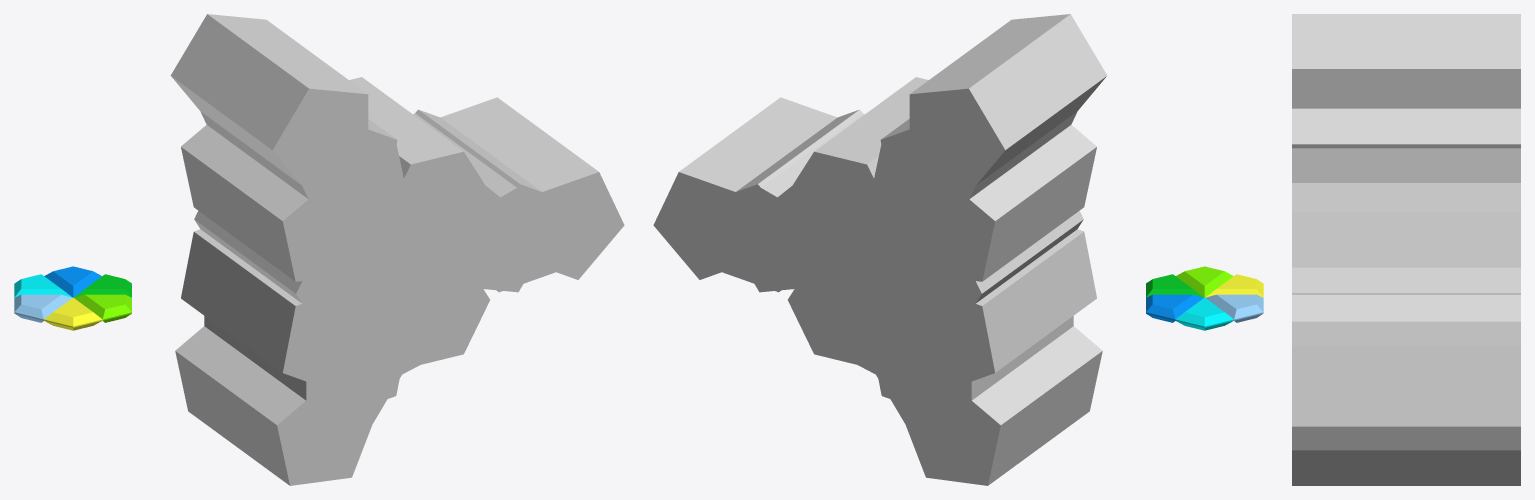
File: preparationTilling.fbx
The picture shows the model from 3 angles, left to right: view 1: azimuth 30°, elevation 25°; view 2: azimuth 150°, elevation 25°; view 3: azimuth 270°, elevation 25°; orthographic projection. The views are drawn at different scales.
Parts seen in each view (by area): view 1: Cylinder_instance, Cylinder_instance_2, Cylinder_instance_5, Cylinder_instance_6, Cylinder, Cylinder_1_1_2, Cylinder_0_2, Cylinder_3_4, Cylinder_1_3, Cylinder_1_3_2, Cylinder_2_3, Cylinder_4_3 (+12 smaller); view 2: Cylinder_instance, Cylinder_instance_2, Cylinder_instance_5, Cylinder_instance_6, Cylinder, Cylinder_1_1_2, Cylinder_1_3, Cylinder_0_2, Cylinder_1_1, Cylinder_2_3, Cylinder_1_3_2, Cylinder_1_5_2 (+13 smaller); view 3: Cylinder, Cylinder_instance, Cylinder_1_1_2, Cylinder_2_3, Cylinder_instance_2, Cylinder_instance_3, Cylinder_0_2, Cylinder_1_1, Cylinder_2_5.
Boxes of the visible parts, box(x1,y1,x2,y2) form: Cylinder_instance: box(170, 14, 368, 193); Cylinder_instance_2: box(175, 326, 373, 485); Cylinder_instance_5: box(181, 125, 382, 281); Cylinder_instance_6: box(181, 229, 382, 392); Cylinder: box(440, 97, 624, 279); Cylinder_1_1_2: box(349, 77, 487, 247); Cylinder_0_2: box(415, 109, 572, 292); Cylinder_3_4: box(367, 215, 462, 320); Cylinder_1_3: box(315, 176, 417, 289); Cylinder_1_3_2: box(194, 211, 401, 335); Cylinder_2_3: box(200, 111, 397, 215); Cylinder_4_3: box(204, 316, 401, 431); Cylinder_instance: box(909, 14, 1107, 193); Cylinder_instance_2: box(901, 326, 1102, 485); Cylinder_instance_5: box(895, 125, 1096, 281); Cylinder_instance_6: box(895, 229, 1096, 392); Cylinder: box(653, 97, 837, 279); Cylinder_1_1_2: box(788, 77, 928, 256); Cylinder_1_3: box(861, 176, 962, 289); Cylinder_0_2: box(704, 109, 862, 292); Cylinder_1_1: box(762, 180, 863, 279); Cylinder_2_3: box(880, 111, 1077, 213); Cylinder_1_3_2: box(876, 211, 1083, 335); Cylinder_1_5_2: box(788, 262, 893, 364); Cylinder: box(1292, 321, 1520, 450); Cylinder_instance: box(1292, 14, 1520, 108); Cylinder_1_1_2: box(1292, 183, 1520, 267); Cylinder_2_3: box(1292, 108, 1520, 148); Cylinder_instance_2: box(1292, 450, 1520, 485); Cylinder_instance_3: box(1292, 148, 1520, 182); Cylinder_0_2: box(1292, 294, 1520, 321); Cylinder_1_1: box(1292, 267, 1520, 293); Cylinder_2_5: box(1292, 293, 1520, 294).
Size of the model in its own units: 95 by 64.85 by 30.
